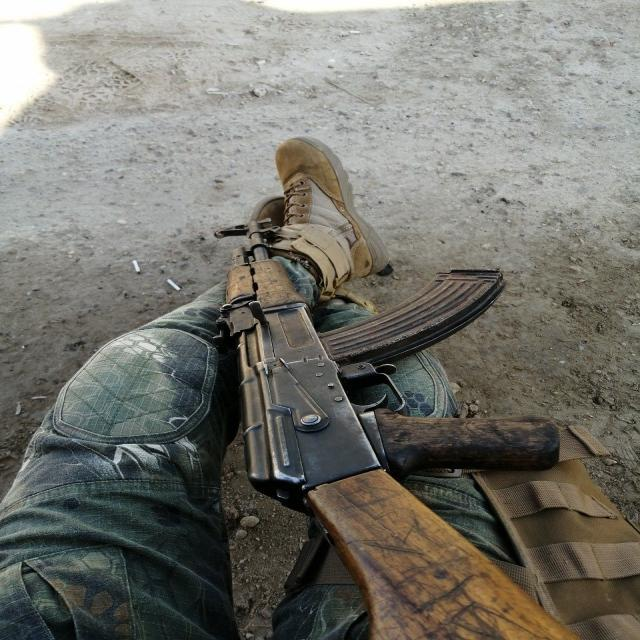ak: (217, 213, 577, 640)
